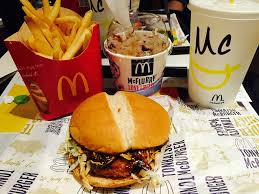hamburger: (67, 90, 172, 188)
